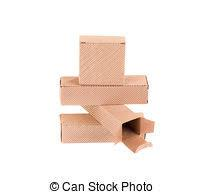Cardboard: (47, 22, 179, 162)
